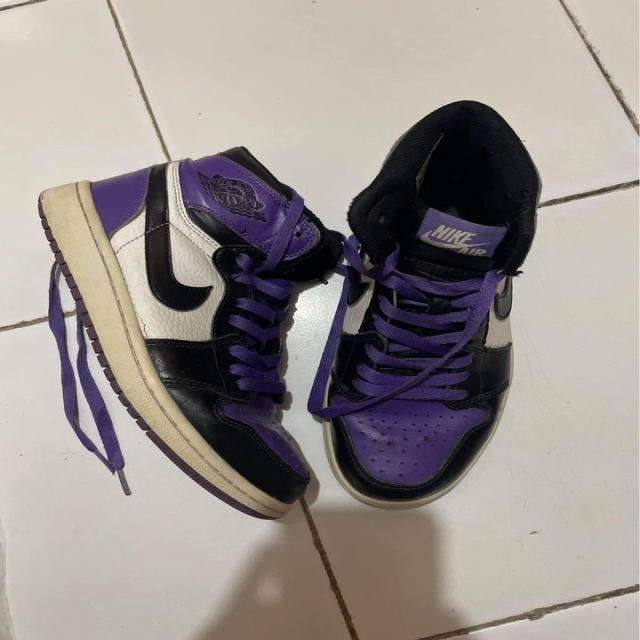nike fake jordan 1: (323, 101, 552, 505)
nike original jordan 1: (23, 148, 351, 404)
